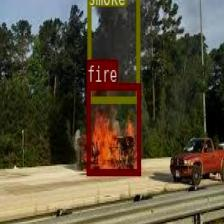fire: (86, 83, 140, 174)
smoke: (87, 0, 140, 101)
